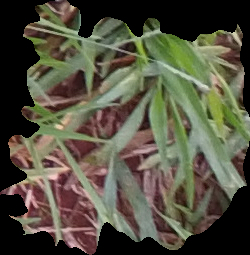grass: (1, 1, 248, 254)
